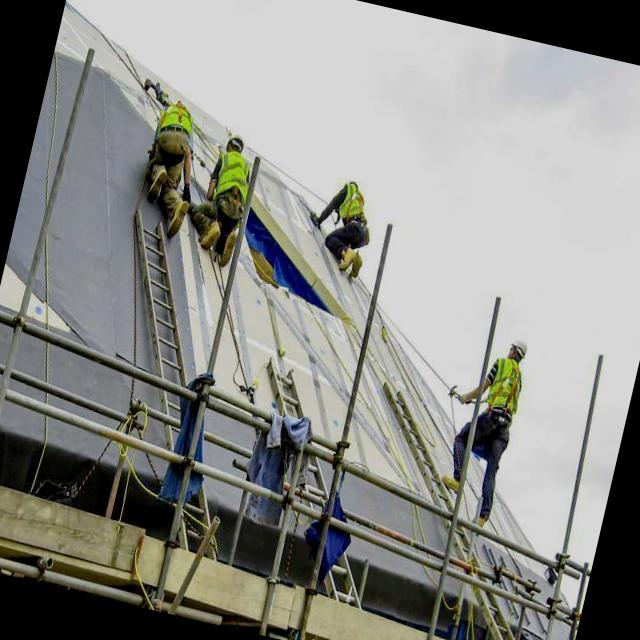vest: (479, 356, 530, 418), (206, 150, 258, 208), (153, 102, 200, 140), (330, 183, 373, 223)
